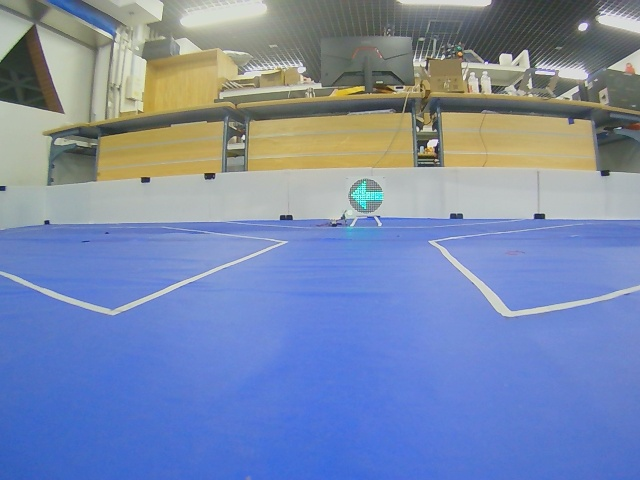left_green: (349, 179, 384, 213)
